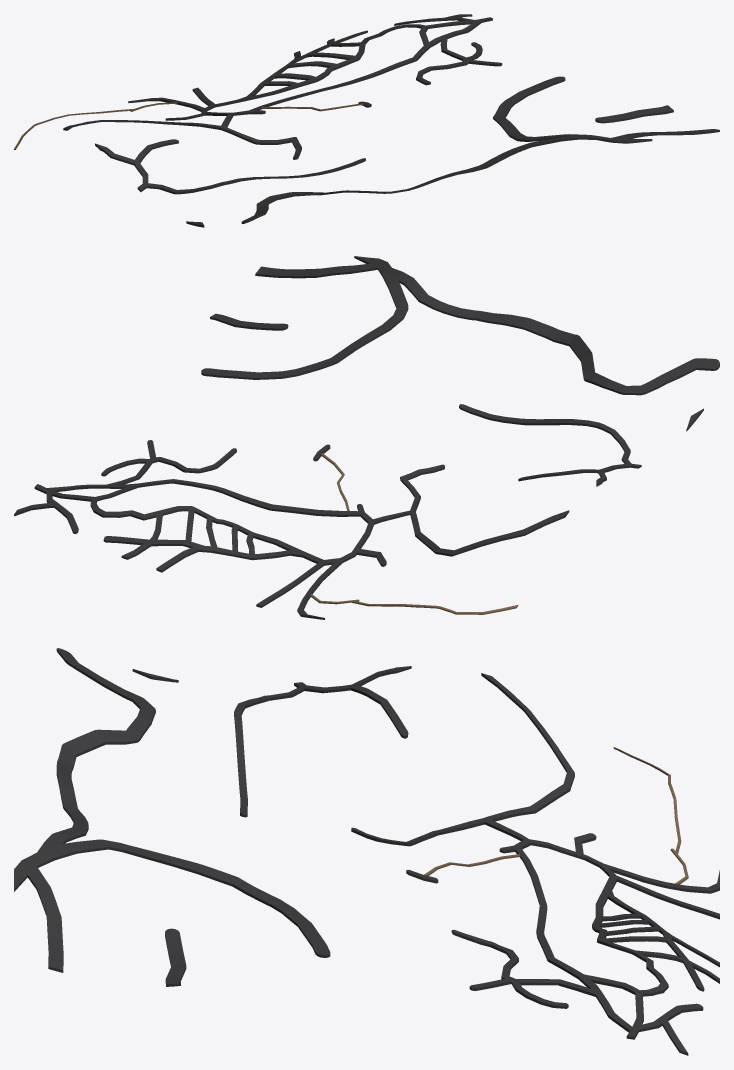
3 renders of one model, top to bottom at view 1: azimuth 30°, elevation 25°; view 2: azimuth 150°, elevation 25°; view 3: azimuth 270°, elevation 25°, orthographic. The views are drawn at different scales.
Bounding box in the file's own units: 293 × 68.4 × 292.
